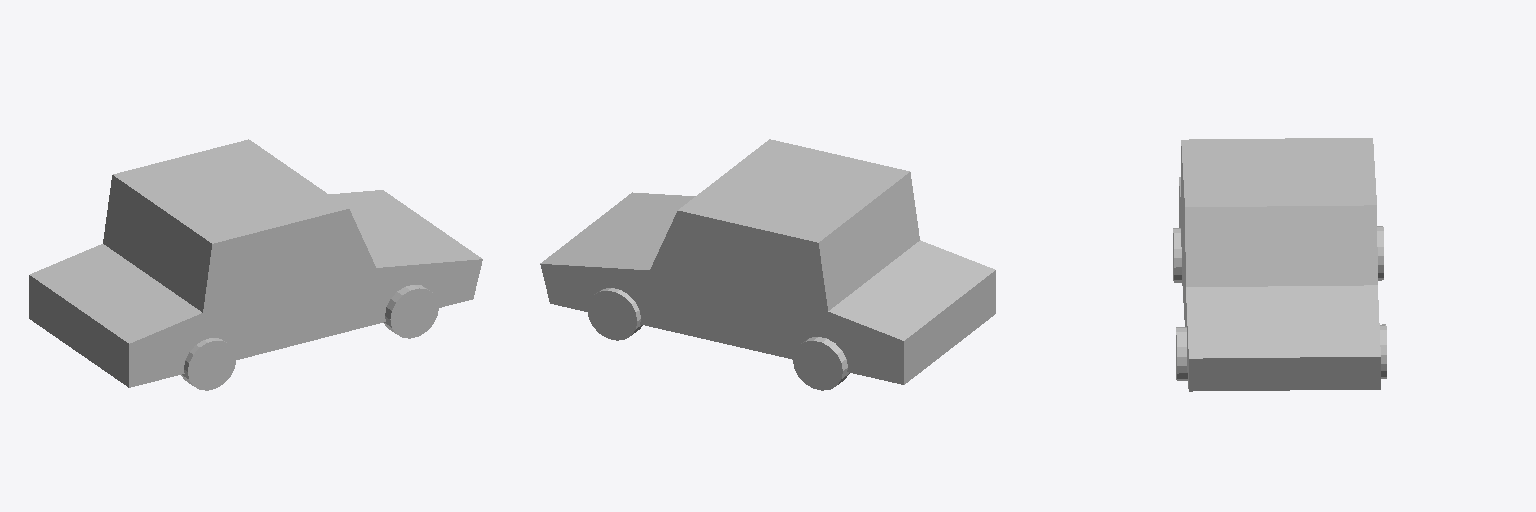
Rendered from car_4.obj.
3 views of the same model, side by side, from view 1: azimuth 30°, elevation 25°; view 2: azimuth 150°, elevation 25°; view 3: azimuth 270°, elevation 25° (orthographic).
Parts seen in each view (by area): view 1: Car_04; view 2: Car_04; view 3: Car_04.
Boxes of the visible parts, box(x1,y1,x2,y2) form: Car_04: box(29, 139, 482, 390); Car_04: box(540, 139, 995, 390); Car_04: box(1173, 138, 1386, 391).
Size of the model in its own units: 1.8 by 0.6725 by 0.9209.